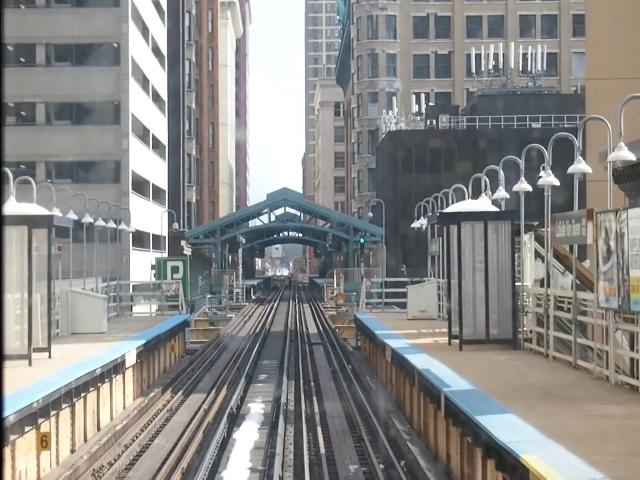signal light: (360, 236, 367, 264)
